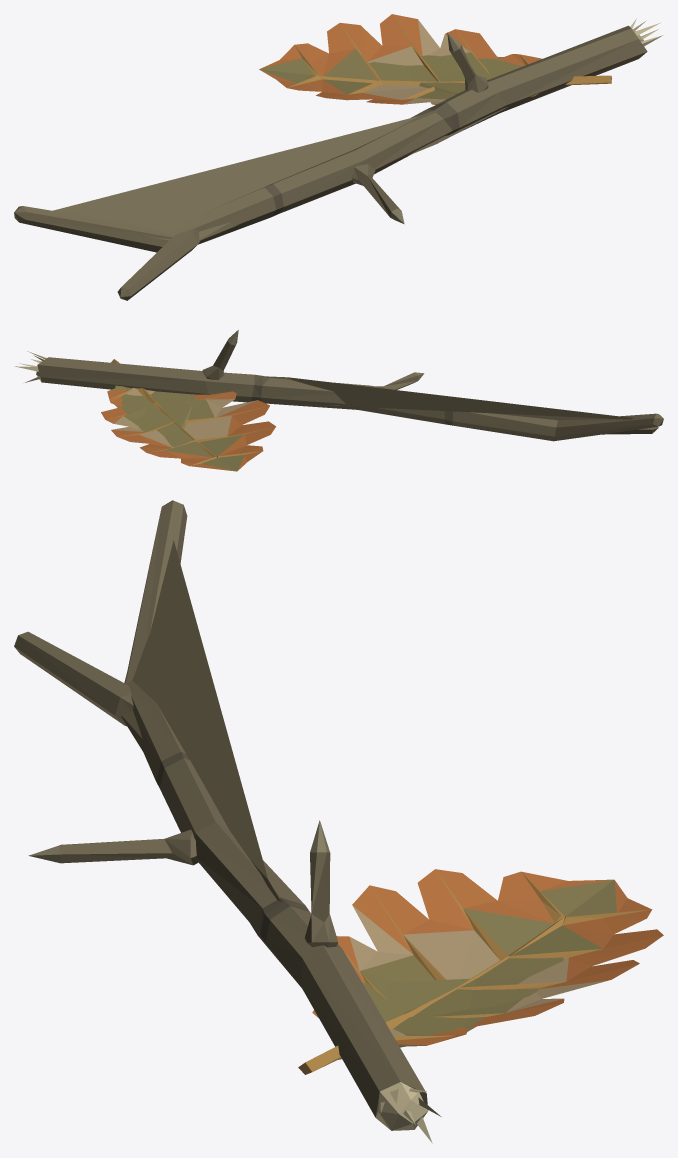
The model's file is pf_litter_a.glb.
3 views of the same model, one above another, from view 1: azimuth 30°, elevation 25°; view 2: azimuth 150°, elevation 25°; view 3: azimuth 270°, elevation 25° (orthographic). The views are drawn at different scales.
Visible parts, largest first — view 1: body, body__far; view 2: body, body__far; view 3: body, body__far.
Boxes of the visible parts, bbox=[...] form: body: bbox=[14, 14, 662, 300]; body__far: bbox=[53, 55, 523, 240]; body: bbox=[14, 330, 663, 471]; body__far: bbox=[115, 376, 634, 446]; body: bbox=[14, 500, 663, 1143]; body__far: bbox=[121, 540, 563, 1060].
Bounding box in the file's own units: 4.73 × 0.615 × 2.37.
